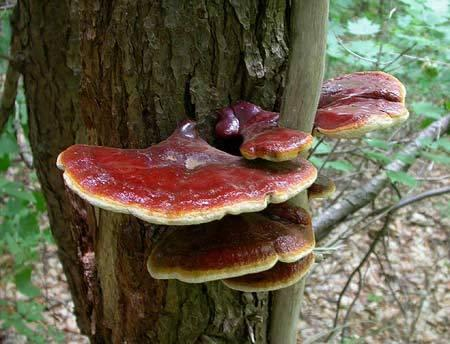poisonous_mushroom: (55, 93, 332, 308), (313, 69, 409, 139)
